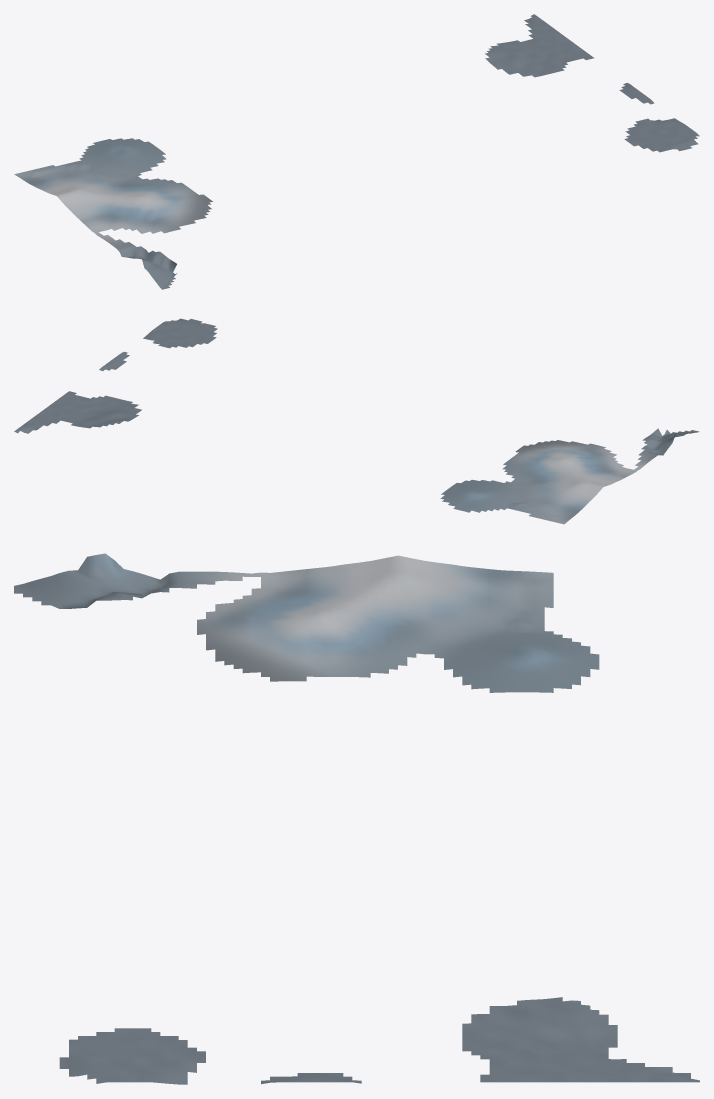
Rendered from frost_tile_x3z1.glb.
The picture shows the model from 3 angles, top to bottom: view 1: azimuth 30°, elevation 25°; view 2: azimuth 150°, elevation 25°; view 3: azimuth 270°, elevation 25°; orthographic projection. The views are drawn at different scales.
Parts seen in each view (by area): view 1: frost_tile_x3z1; view 2: frost_tile_x3z1; view 3: frost_tile_x3z1.
Part boxes in pixels (x1,y1,x2,y2): frost_tile_x3z1: (14,14,699,289); frost_tile_x3z1: (14,318,699,524); frost_tile_x3z1: (14,553,699,1084).
Size of the model in its own units: 968 by 29.36 by 562.
